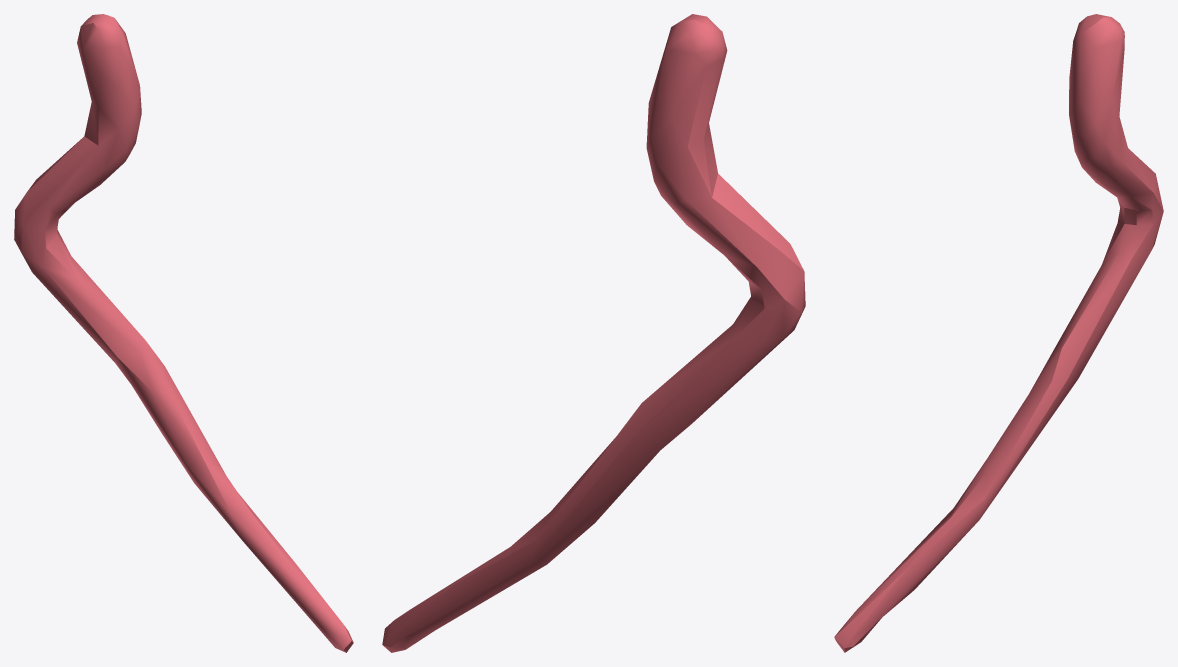
Rendered from fma4708_fj2705.glb.
The picture shows the model from 3 angles, left to right: view 1: azimuth 30°, elevation 25°; view 2: azimuth 210°, elevation 25°; view 3: azimuth 270°, elevation 25°; orthographic projection. The views are drawn at different scales.
Visible parts, largest first — view 1: FMA4708_FJ2705; view 2: FMA4708_FJ2705; view 3: FMA4708_FJ2705.
Boxes of the visible parts, x1,y1,x2,y2 form: FMA4708_FJ2705: (14, 14, 353, 652); FMA4708_FJ2705: (382, 14, 805, 652); FMA4708_FJ2705: (834, 14, 1163, 652).
Bounding box in the file's own units: 0.00525 × 0.0153 × 0.00789.
